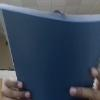notebook: (0, 2, 99, 99)
